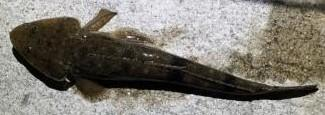fish: (8, 9, 320, 103)
